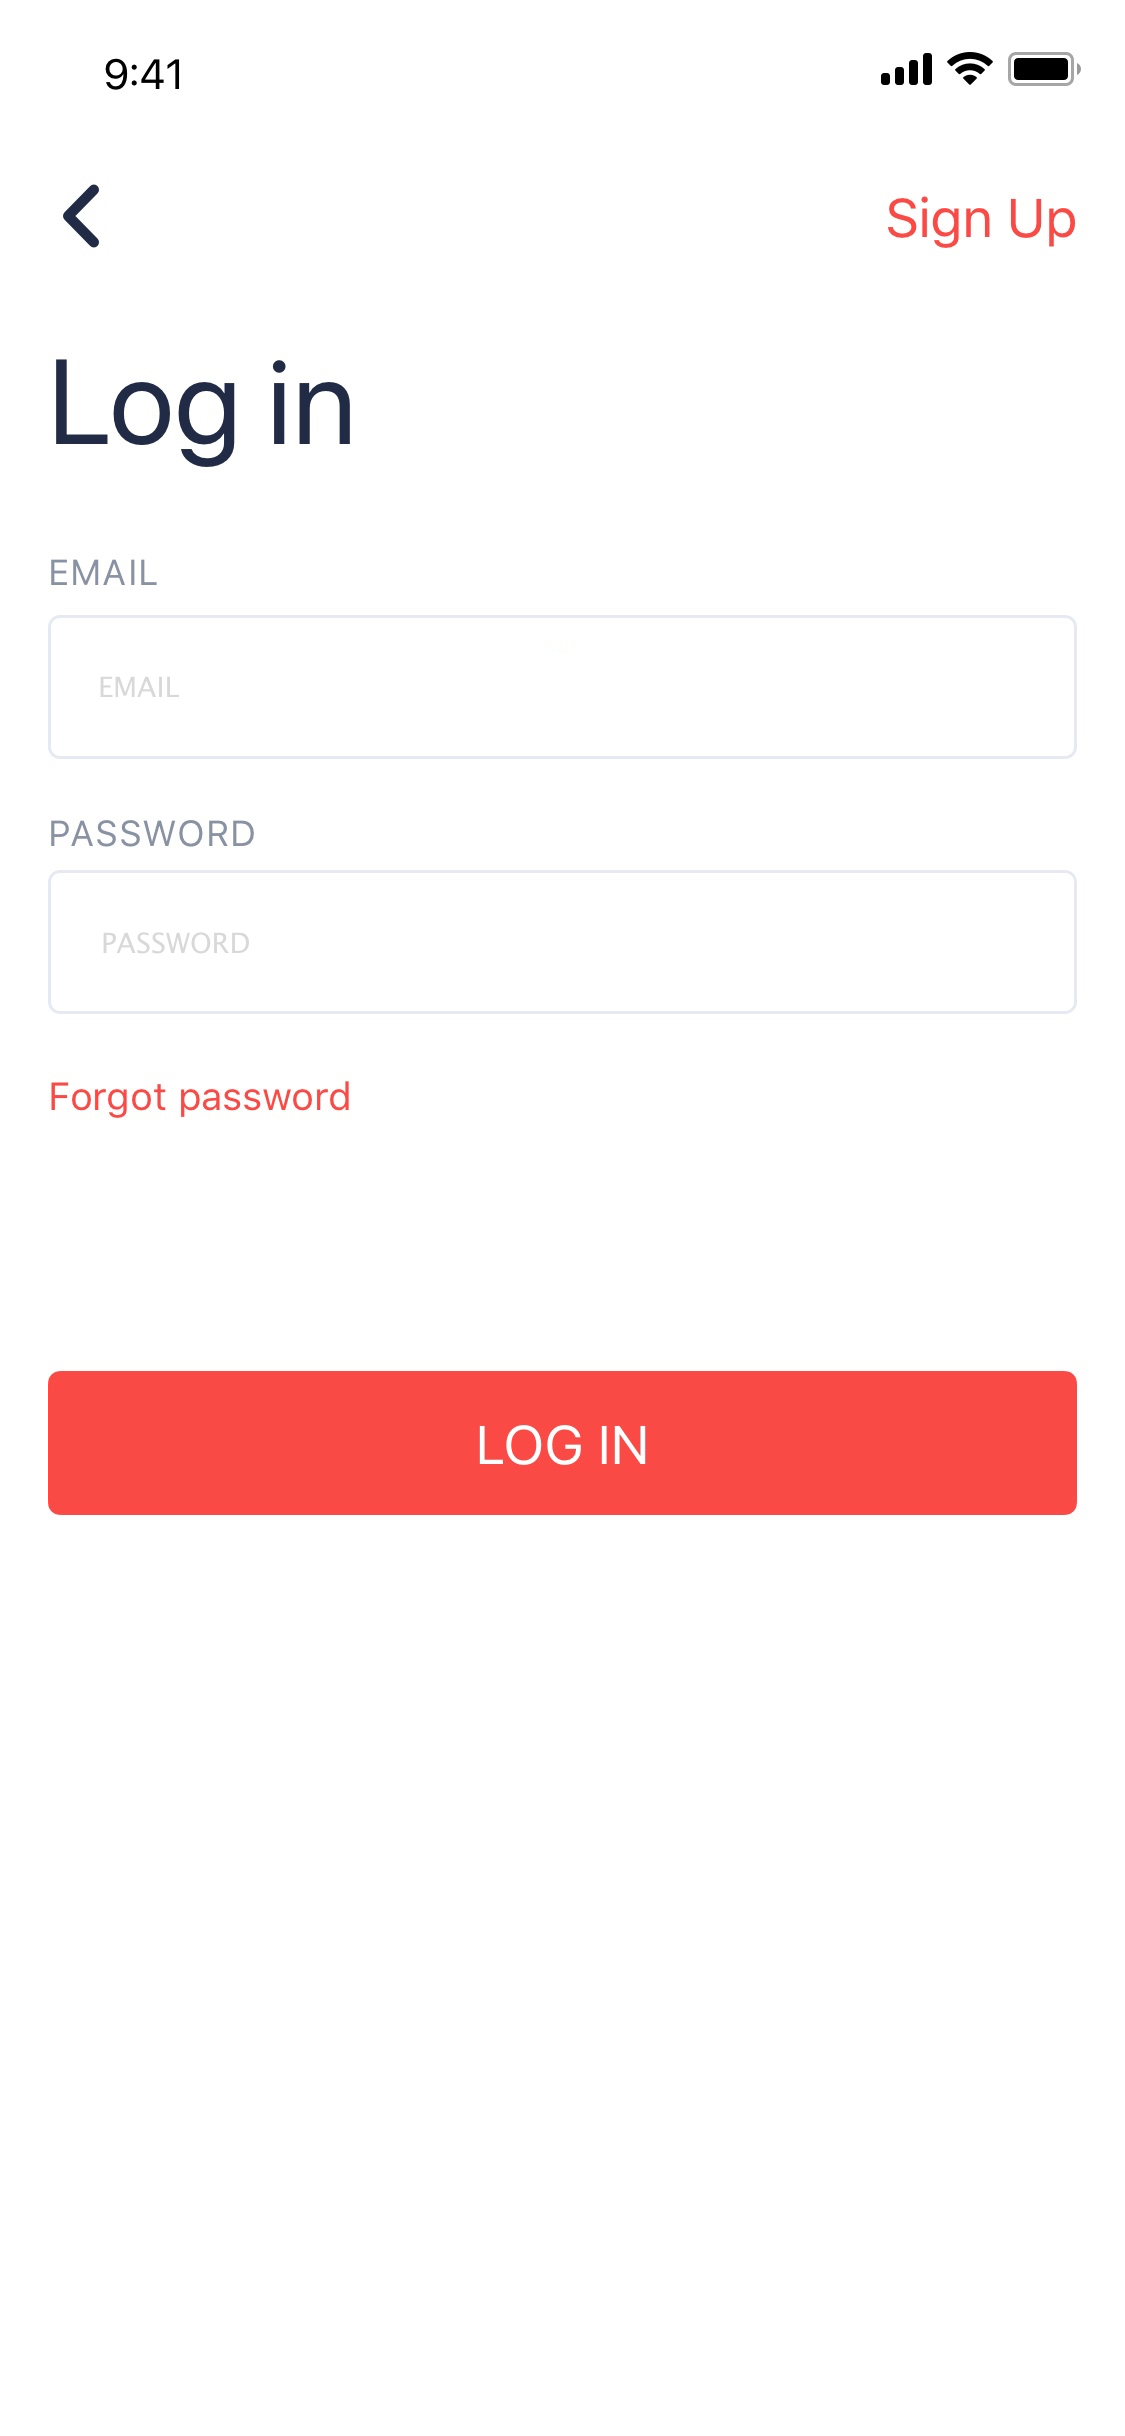EditText: (48, 615, 1078, 760), (48, 870, 1078, 1014)
Icon: (64, 183, 101, 250)
Text: (56, 359, 353, 469), (51, 1081, 351, 1120), (887, 196, 1075, 250), (51, 820, 256, 848), (103, 932, 252, 955), (51, 559, 158, 587), (101, 676, 180, 699)
TextButton: (48, 1370, 1078, 1516)
UpperTaskBar: (106, 51, 1081, 92)
